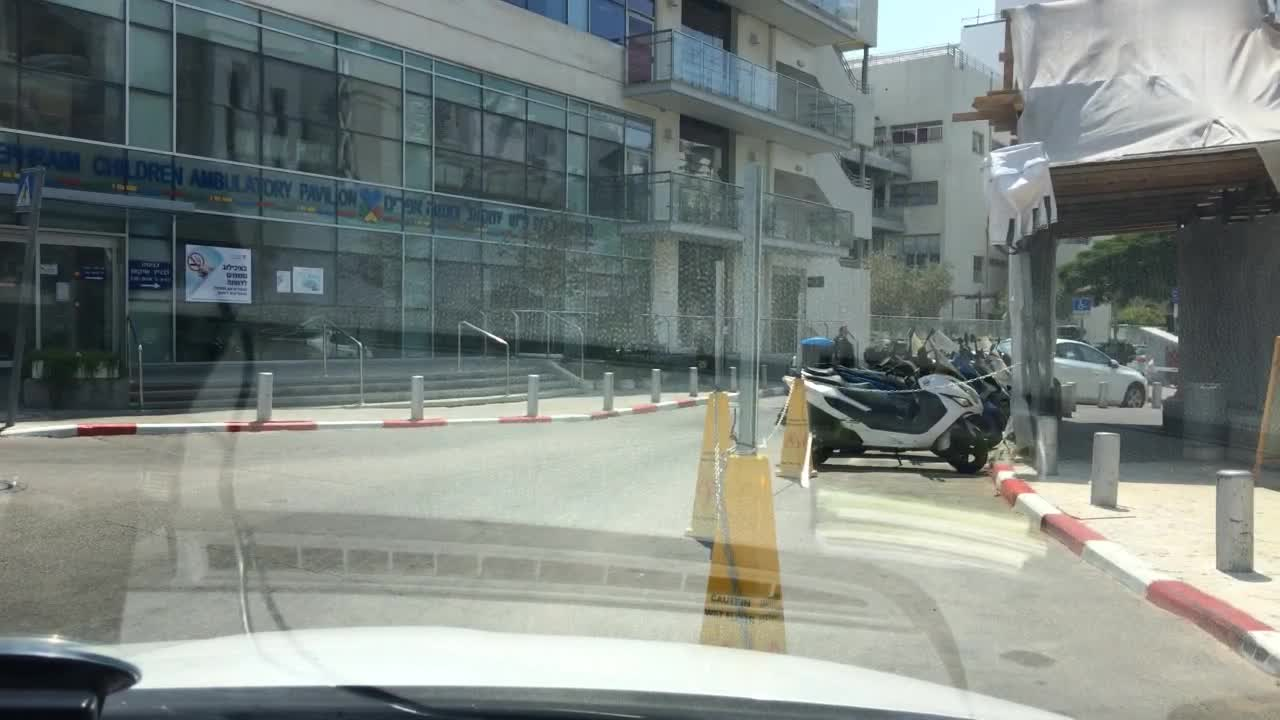car: (996, 335, 1148, 408), (1131, 343, 1149, 362)
motor: (777, 342, 1011, 474), (864, 320, 1016, 445), (903, 323, 1008, 427), (940, 328, 1014, 389), (987, 332, 1012, 369)
person: (836, 324, 858, 369)
traffic sign: (15, 170, 37, 211), (1071, 293, 1091, 319)
